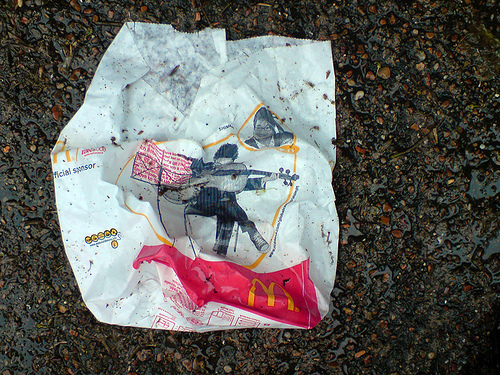litter: (48, 20, 342, 332)
